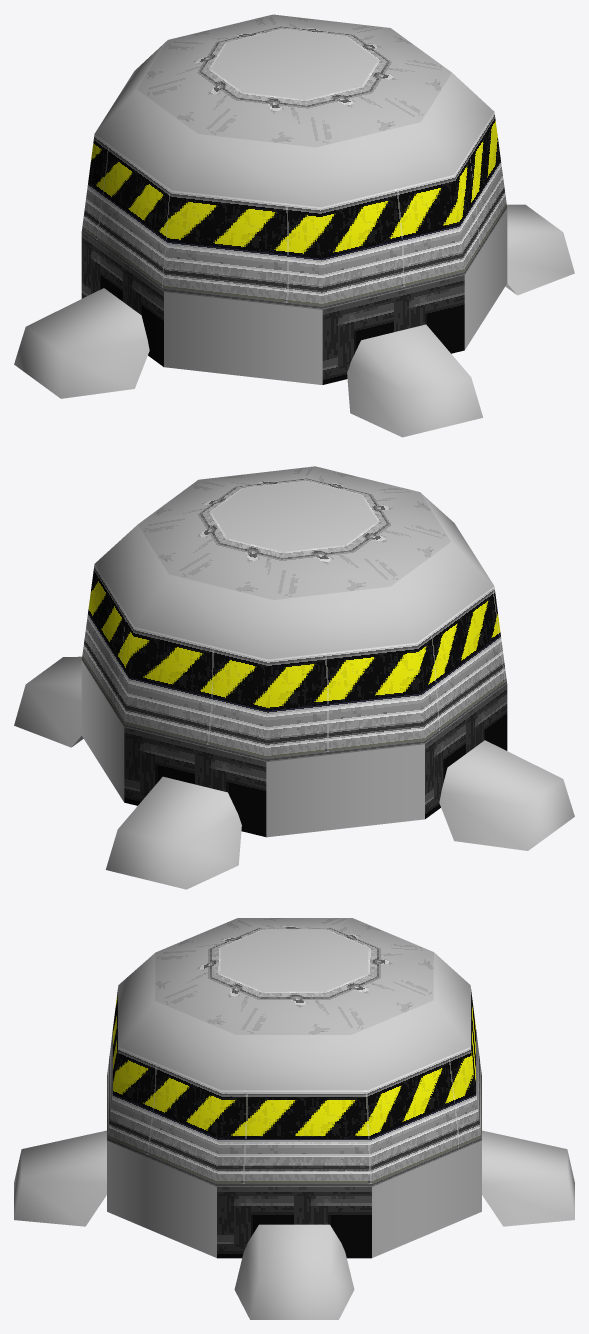
The model's file is CapsuleBottom.obj.
3 renders of one model, top to bottom at view 1: azimuth 30°, elevation 25°; view 2: azimuth 150°, elevation 25°; view 3: azimuth 270°, elevation 25°, orthographic. The views are drawn at different scales.
Size of the model in its own units: 46.3 by 21.92 by 46.3.
